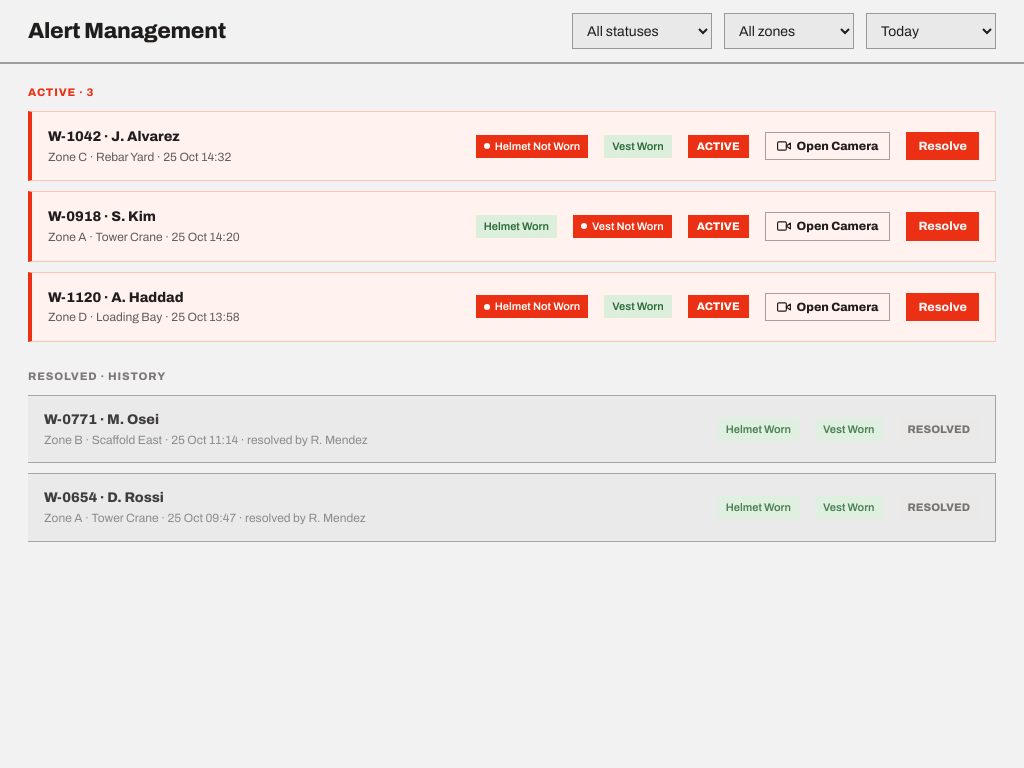
Test: AlertsScreen › asks for confirmation before resolving (UI-6.6)
Click the button "Resolve" in the row of "25 Oct 14:32" at (943, 146), box [906, 132, 979, 160]
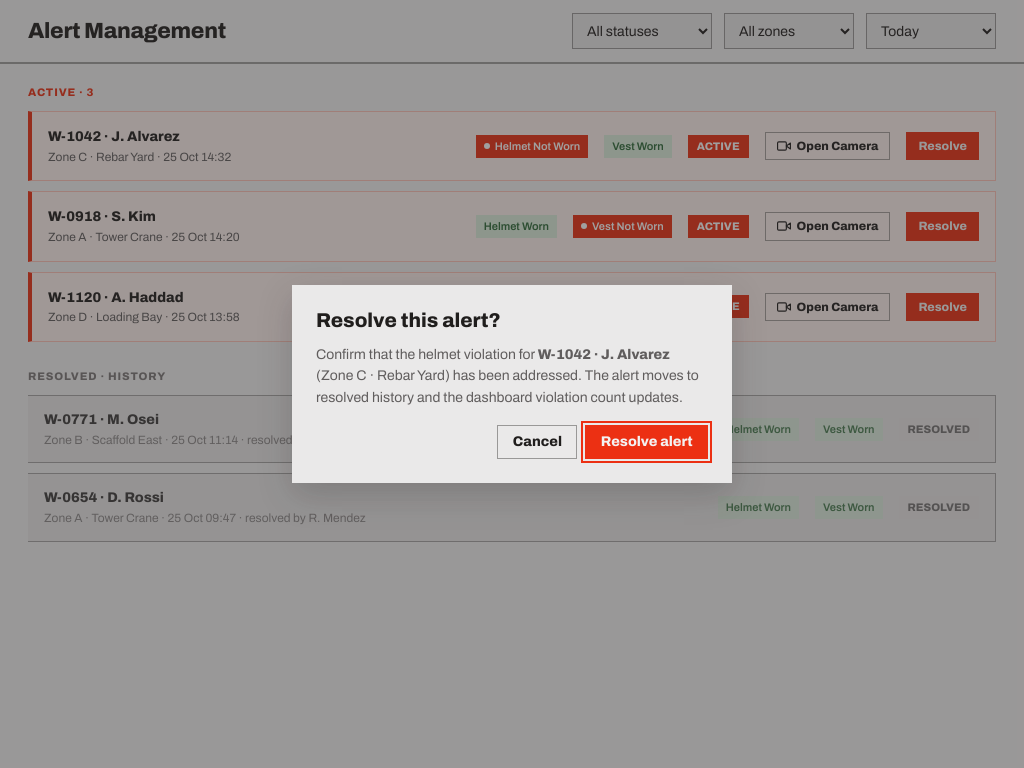
Expected: the text "Active · 3" is shown, [28, 86, 94, 98]
Now the text "Resolve this alert?" is shown, box [316, 309, 501, 331]
